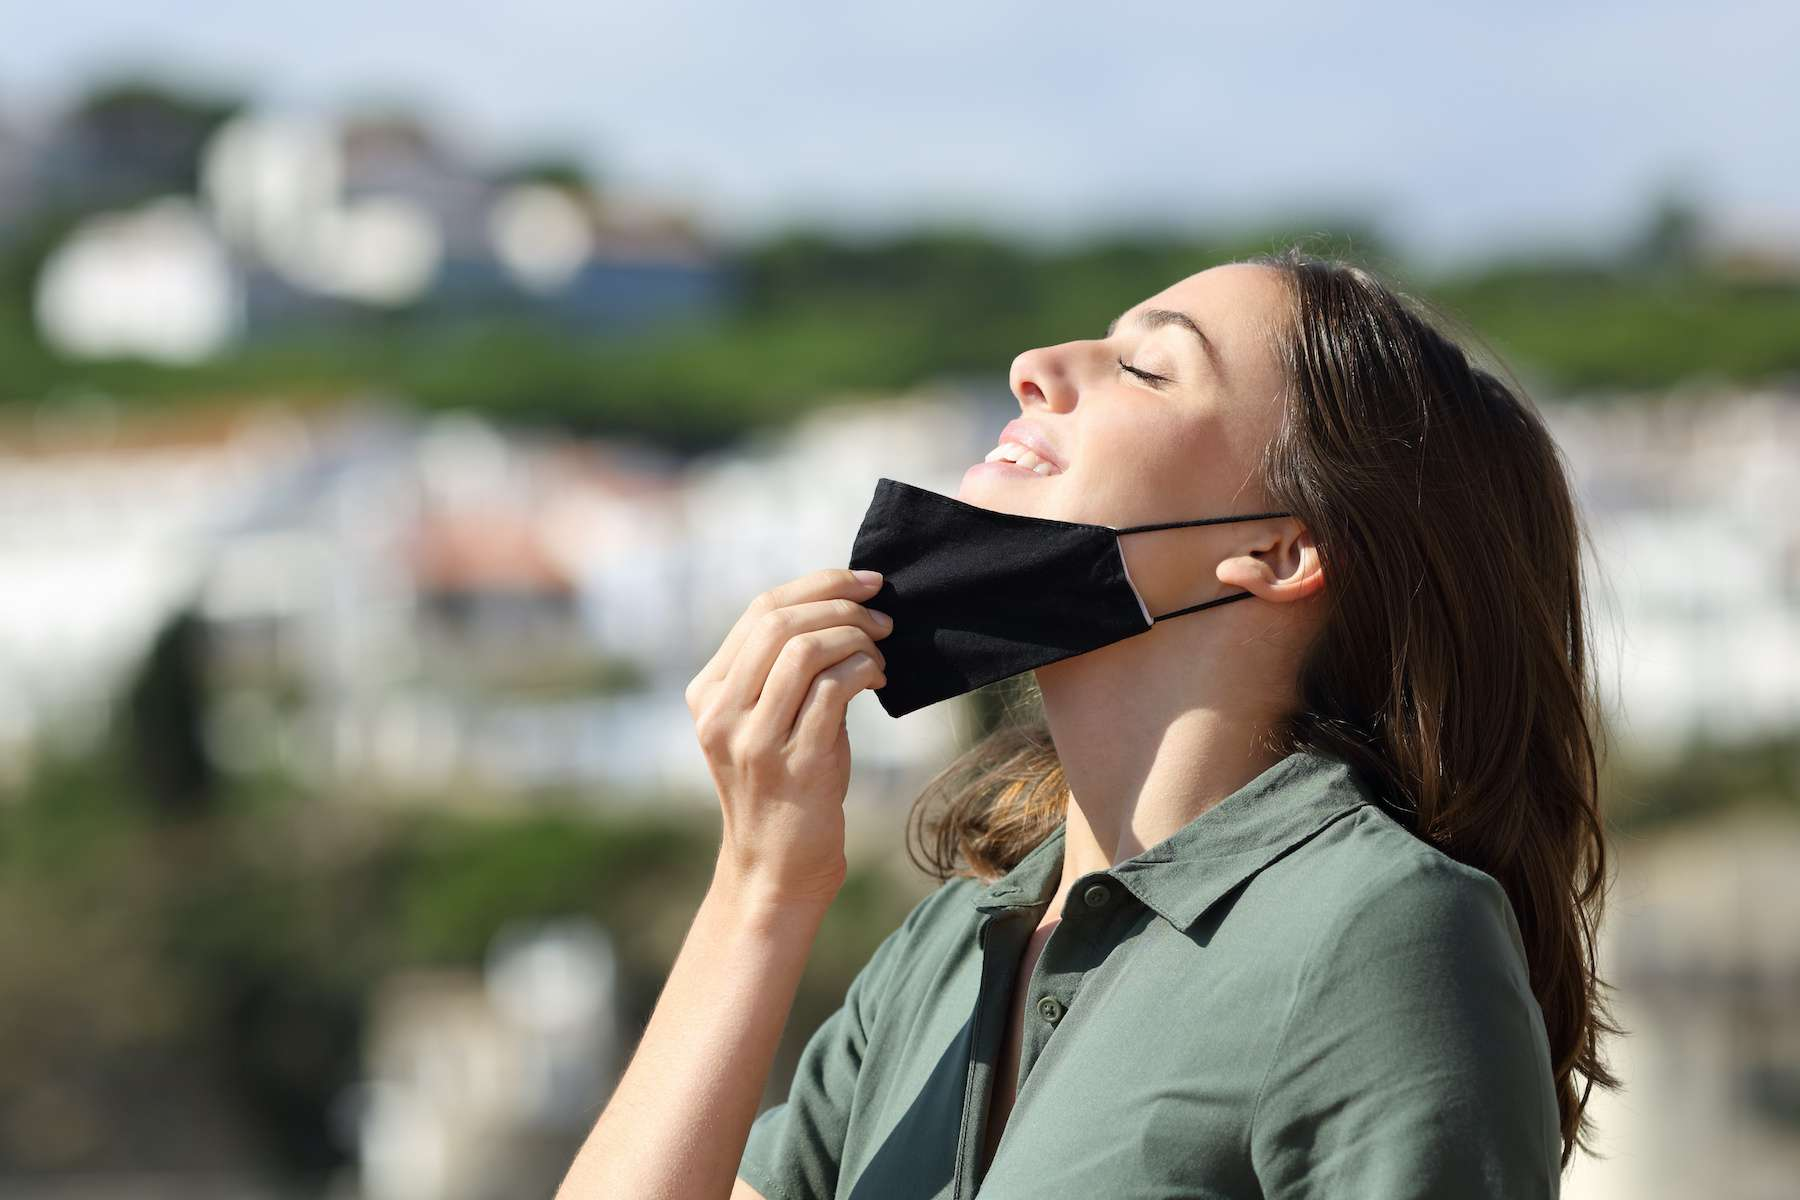with_incorrect_mask: (890, 272, 1320, 651)
